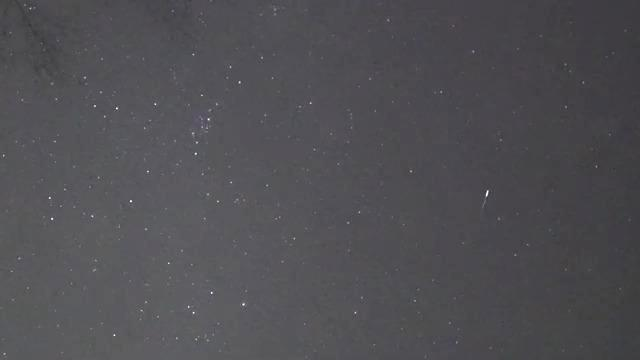meteorite: (470, 184, 499, 215)
